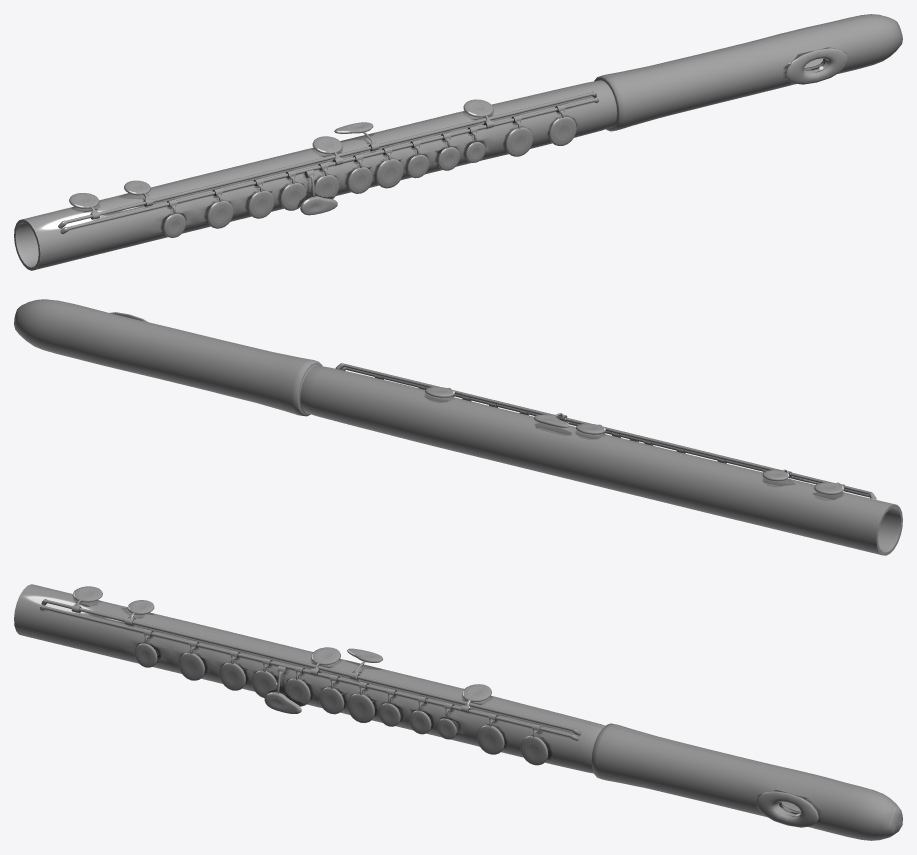
The model's file is flute.glb.
The picture shows the model from 3 angles, top to bottom: view 1: azimuth 30°, elevation 25°; view 2: azimuth 150°, elevation 25°; view 3: azimuth 330°, elevation 25°; orthographic projection.
Parts seen in each view (by area): view 1: 10381_Flute_v4_L3; view 2: 10381_Flute_v4_L3; view 3: 10381_Flute_v4_L3.
Boxes of the visible parts, x1=… form: 10381_Flute_v4_L3: x1=14, y1=14, x2=902, y2=270; 10381_Flute_v4_L3: x1=14, y1=299, x2=902, y2=555; 10381_Flute_v4_L3: x1=14, y1=584, x2=902, y2=840.
Size of the model in its own units: 68.12 by 4.44 by 4.59.
Materials: 1 (1 with a texture image).
